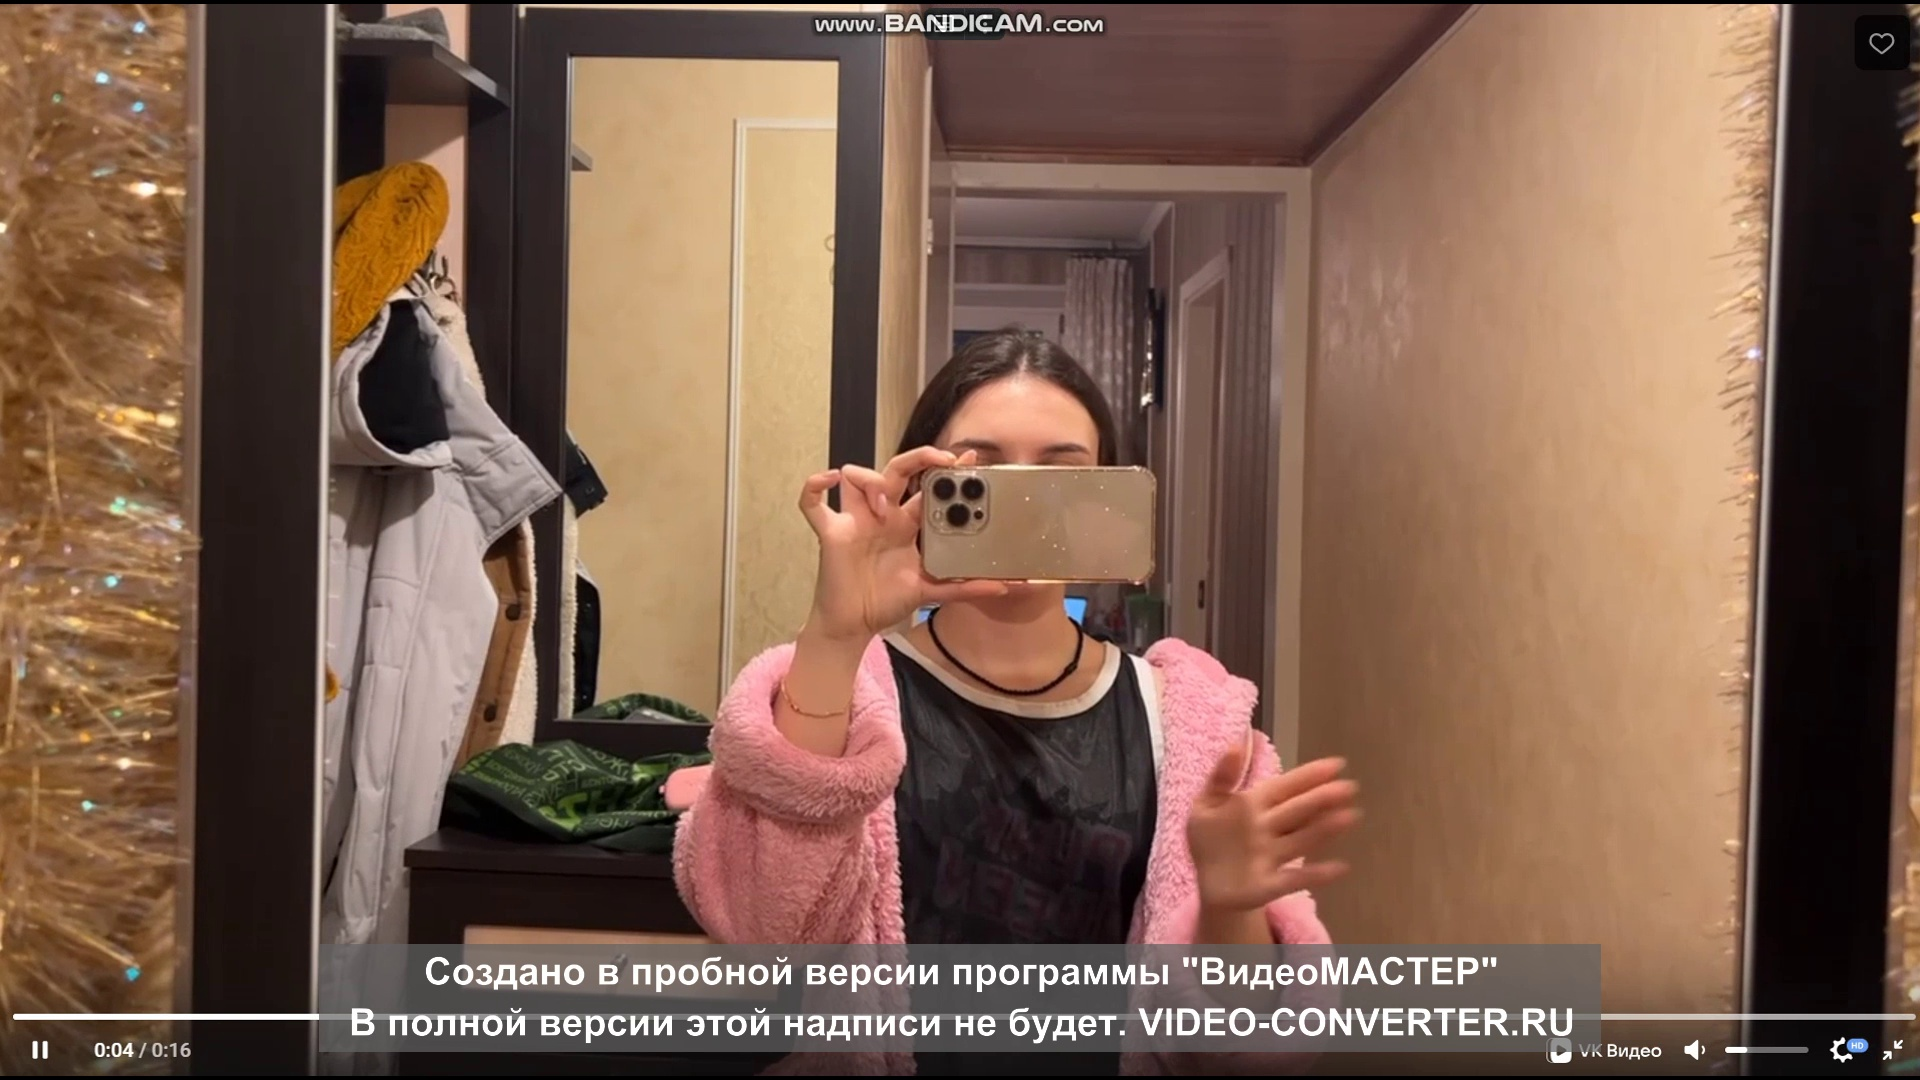Ладонь: (1184, 740, 1362, 916)
